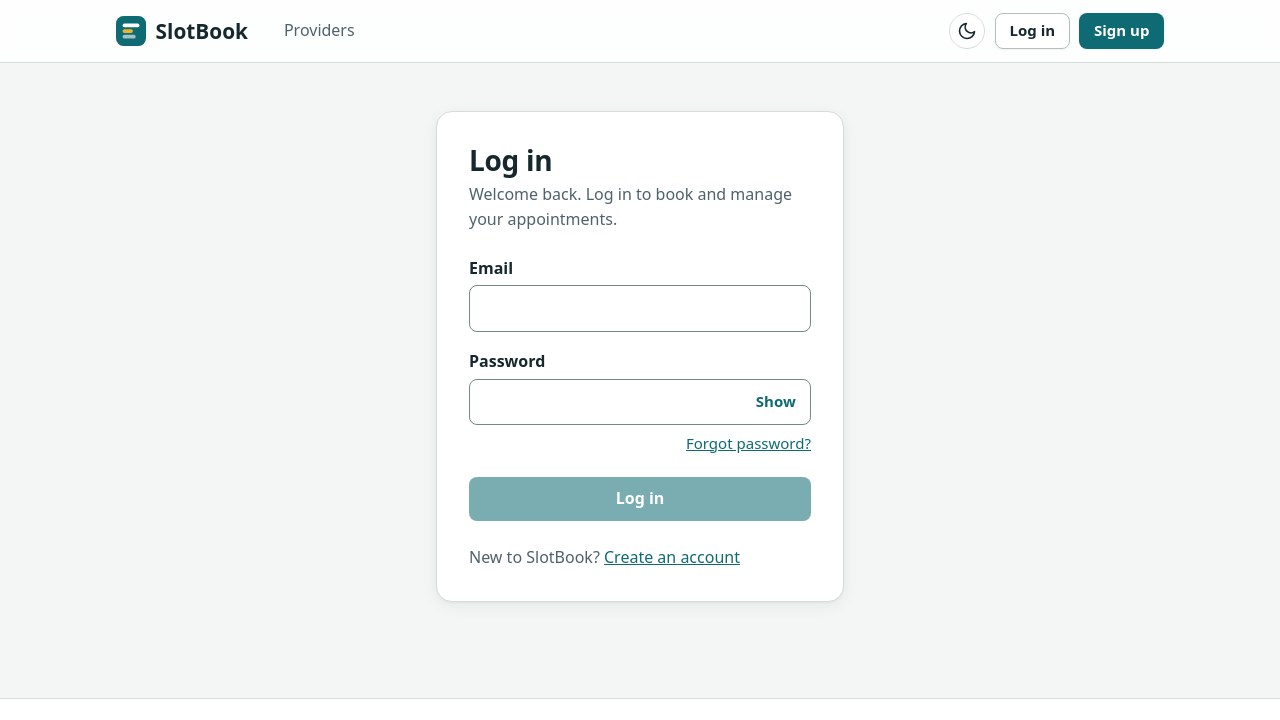
Test: protected pages › sends a logged-out visitor to log in, then back to the page they wanted
Expected: the heading "Log in" is shown, [469,141,552,179]
Type "asha@example.com" into the field labelled "Email" at (640,308), box [469,285,811,332]
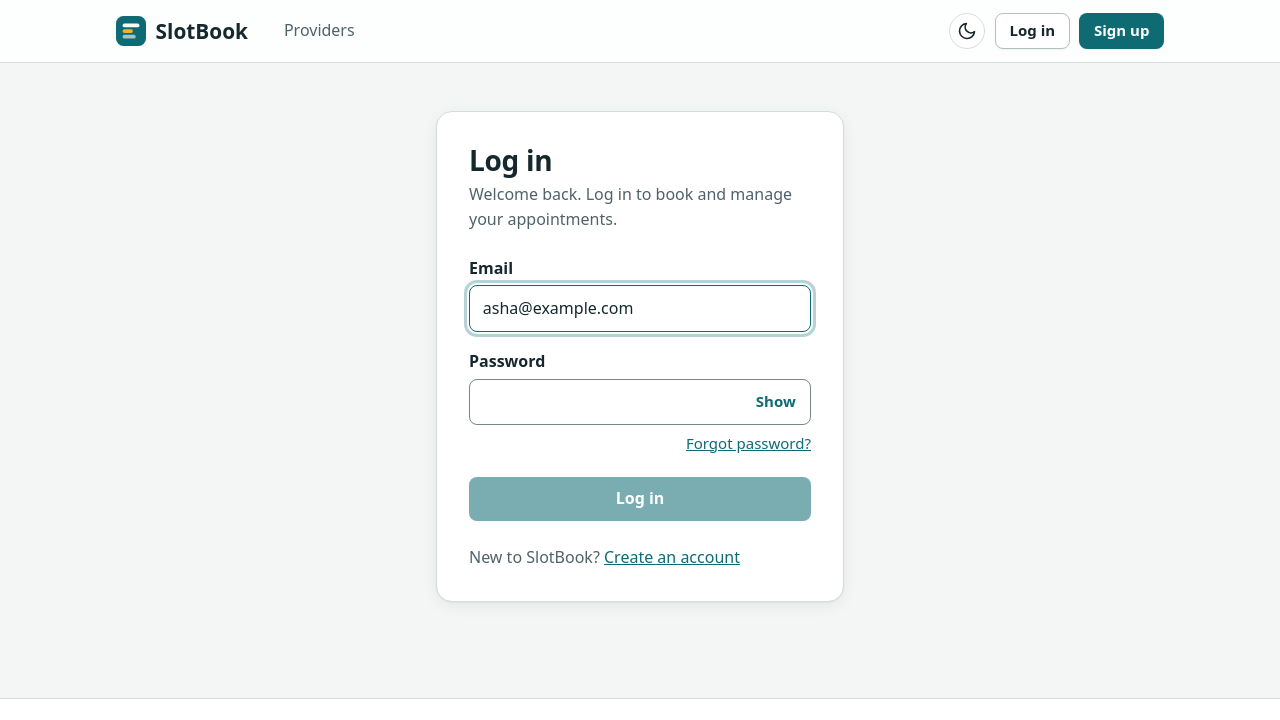
Type "correct-horse" into the password field labelled "Password" at (640,402), box [469,379,811,425]
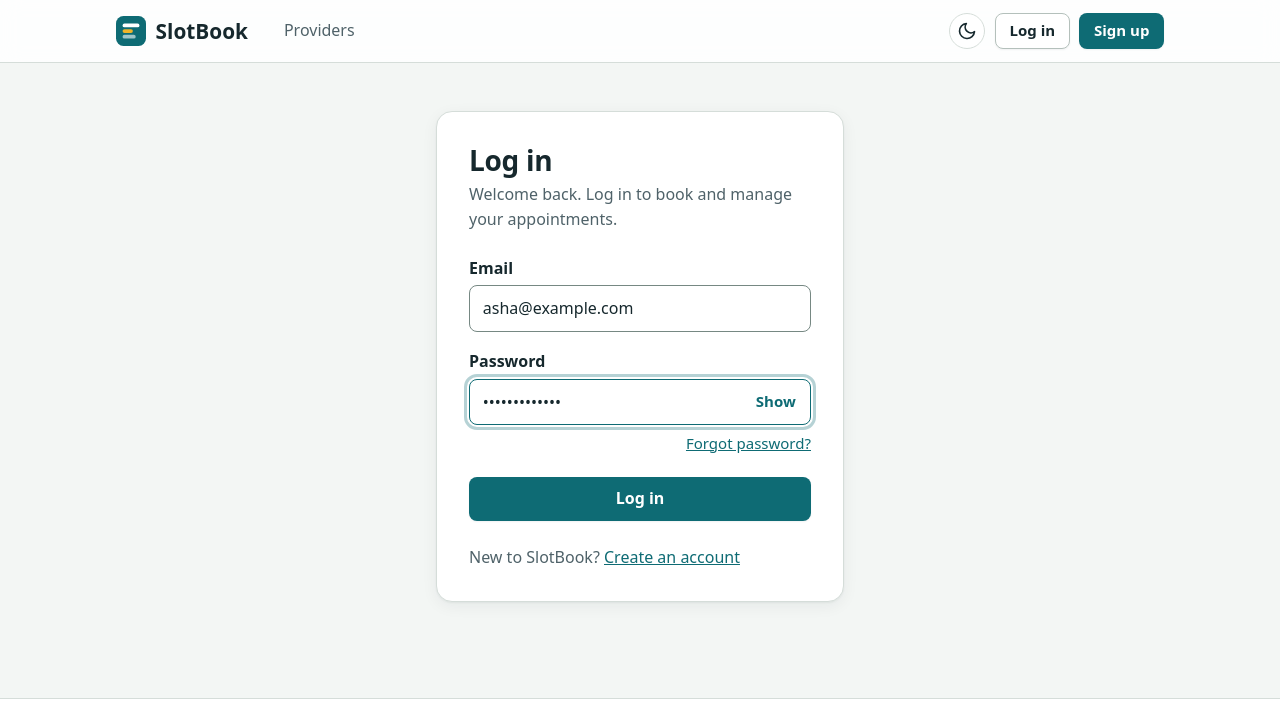
Click the button "Log in" at (640,498), box [469,476,811,520]
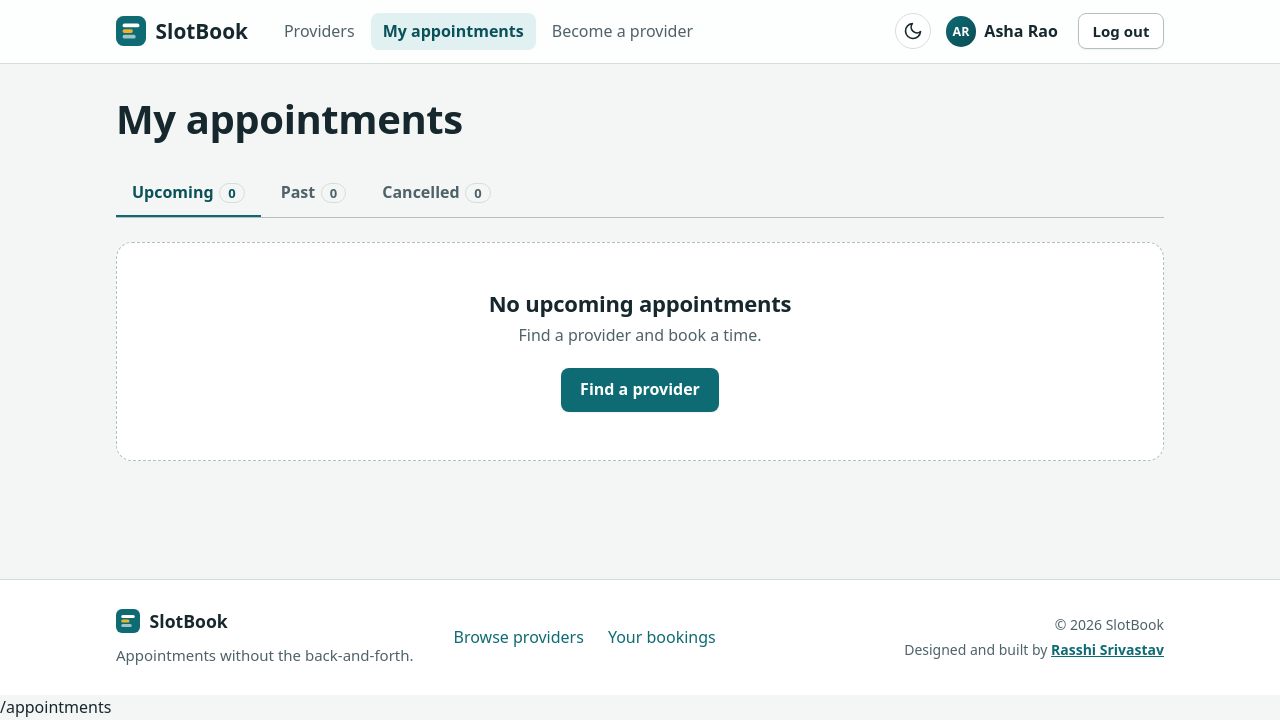
Expected: the heading "My appointments" is shown, [116,91,463,146]
Expected: the text with test id "location" reads "/appointments", [0,696,111,718]
Expected: the text "Asha Rao" is shown, [984,19,1058,44]
